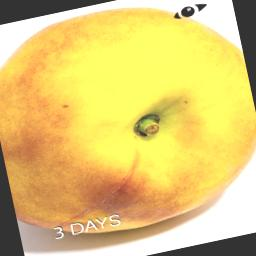Peach Ripe: (0, 0, 256, 253)
